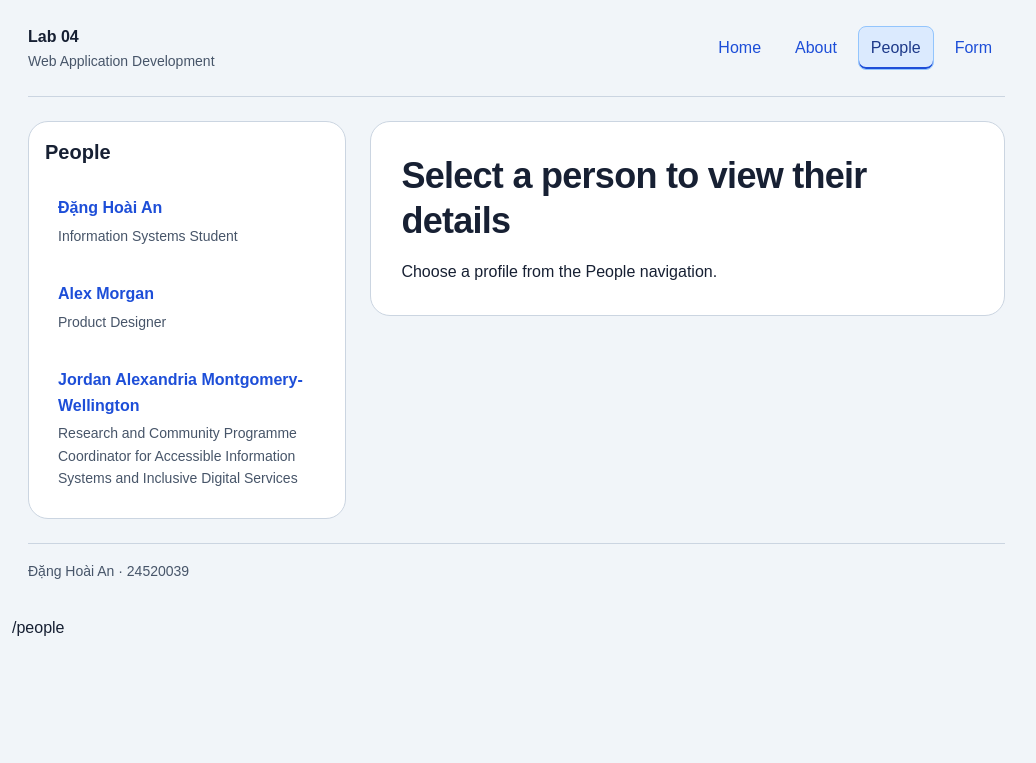
Scenario: Exercise 1.2.2 master-detail contract › updates the URL, profile and active link when changing people
What coordinates should you click on to do the following:
click the link "Đặng Hoài An Information Systems Student"
I would click on:
 (110, 207)
Its box is [58,199,238,244].
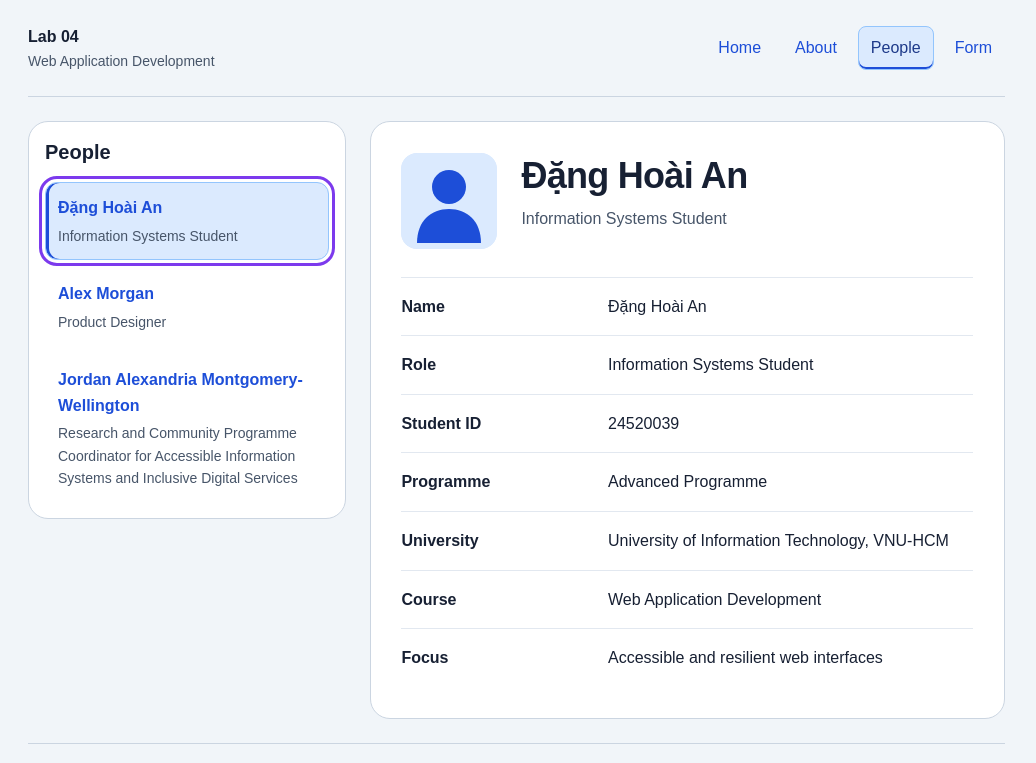
expect the heading "Đặng Hoài An" is shown: met, box [521,155,747,196]
What coordinates should you click on to do the following:
click the link "Alex Morgan Product Designer"
I would click on:
 (106, 293)
Its box is [58,285,166,330].
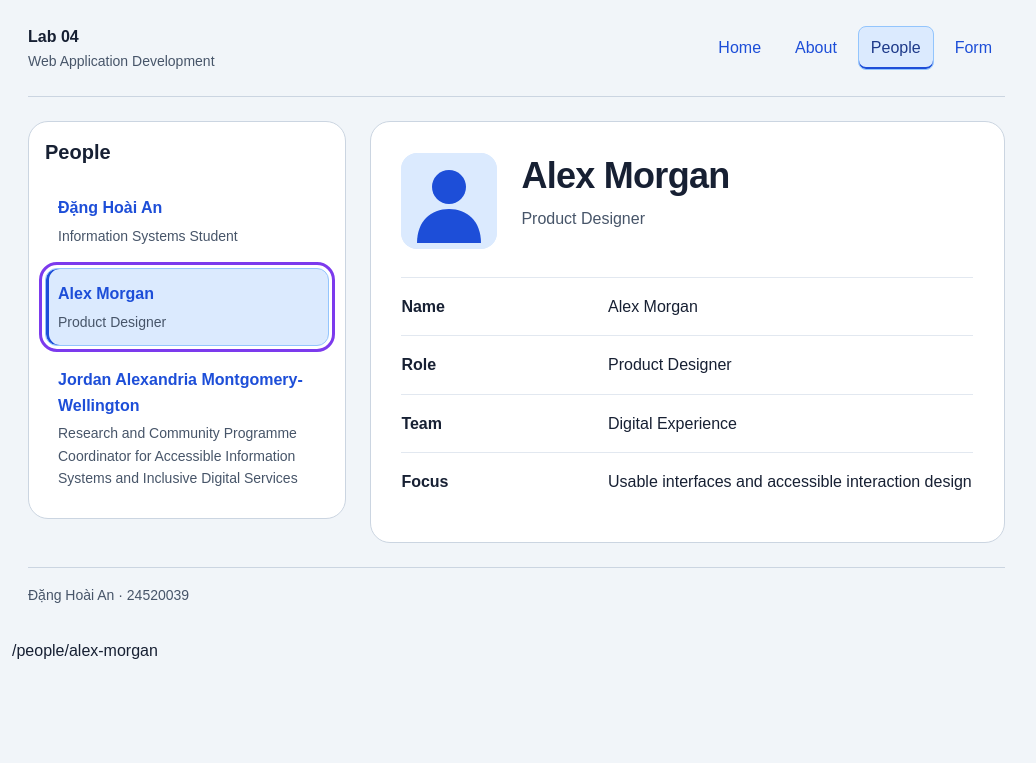
expect the heading "Alex Morgan" is shown: met, box [521,155,730,196]
expect the text with test id "current-path" reads "/people/alex-morgan": met, box [12,642,158,659]
